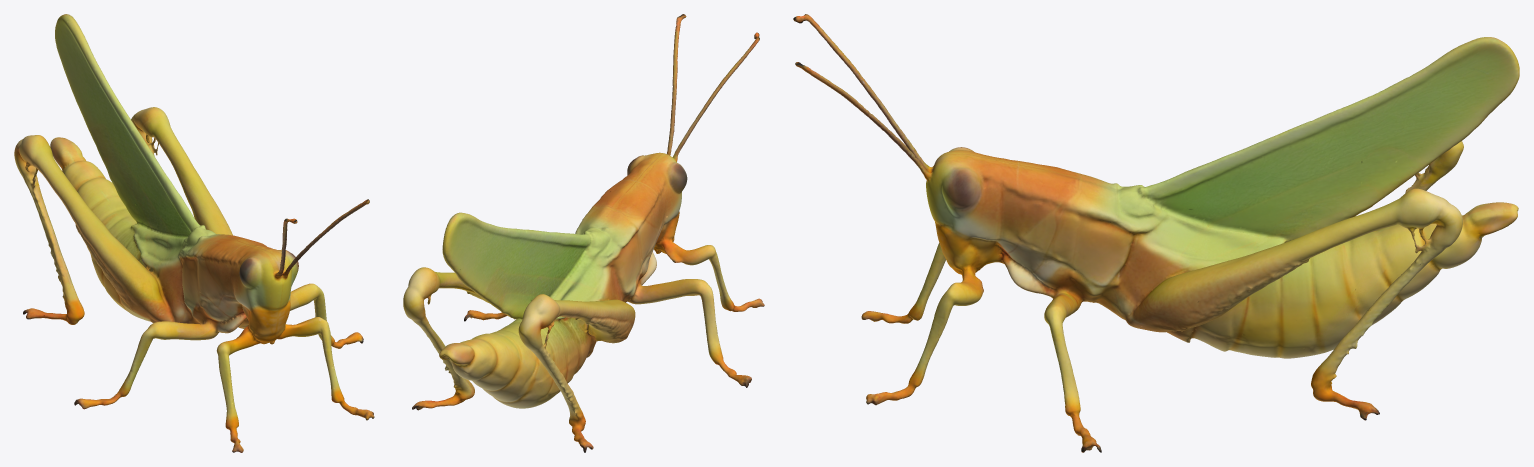
File: Belalang.fbx
3 renders of one model, left to right at view 1: azimuth 30°, elevation 25°; view 2: azimuth 150°, elevation 25°; view 3: azimuth 270°, elevation 25°, orthographic. The views are drawn at different scales.
Parts seen in each view (by area): view 1: Mesh_0; view 2: Mesh_0; view 3: Mesh_0.
Boxes of the visible parts, x1,y1,x2,y2 form: Mesh_0: (14, 14, 374, 452); Mesh_0: (403, 14, 764, 452); Mesh_0: (793, 14, 1519, 452).
Size of the model in its own units: 118 by 99.78 by 200.
Materials: 1 (1 with a texture image).
